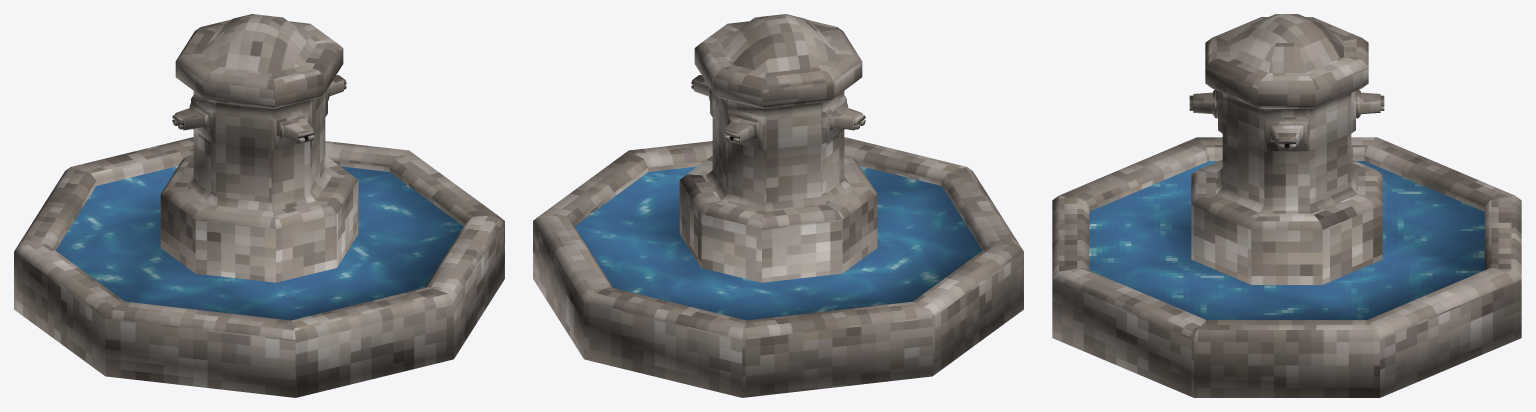
Rendered from Fountain.fbx.
3 renders of one model, left to right at view 1: azimuth 30°, elevation 25°; view 2: azimuth 150°, elevation 25°; view 3: azimuth 270°, elevation 25°, orthographic.
Visible parts, largest first — view 1: Cube; view 2: Cube; view 3: Cube.
Boxes of the visible parts, x1,y1,x2,y2 form: Cube: [14, 14, 504, 397]; Cube: [533, 14, 1023, 397]; Cube: [1052, 14, 1521, 397].
Bounding box in the file's own units: 1365 × 897 × 1365.
